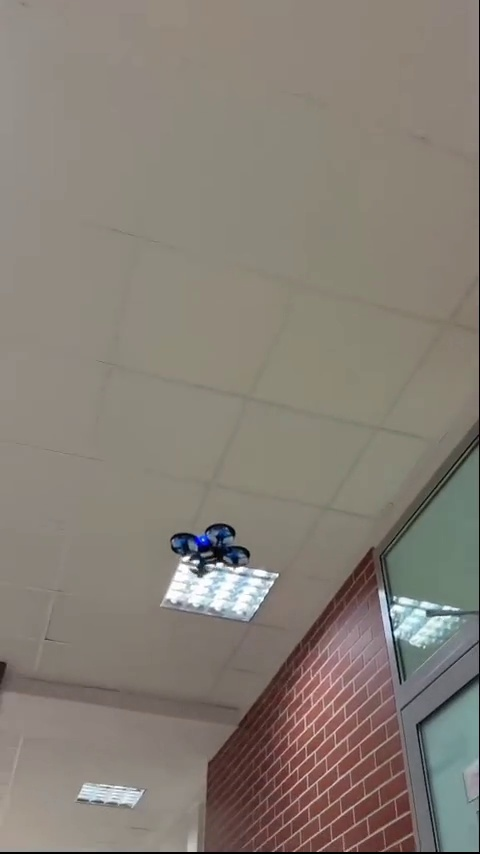drone: (167, 521, 251, 575)
